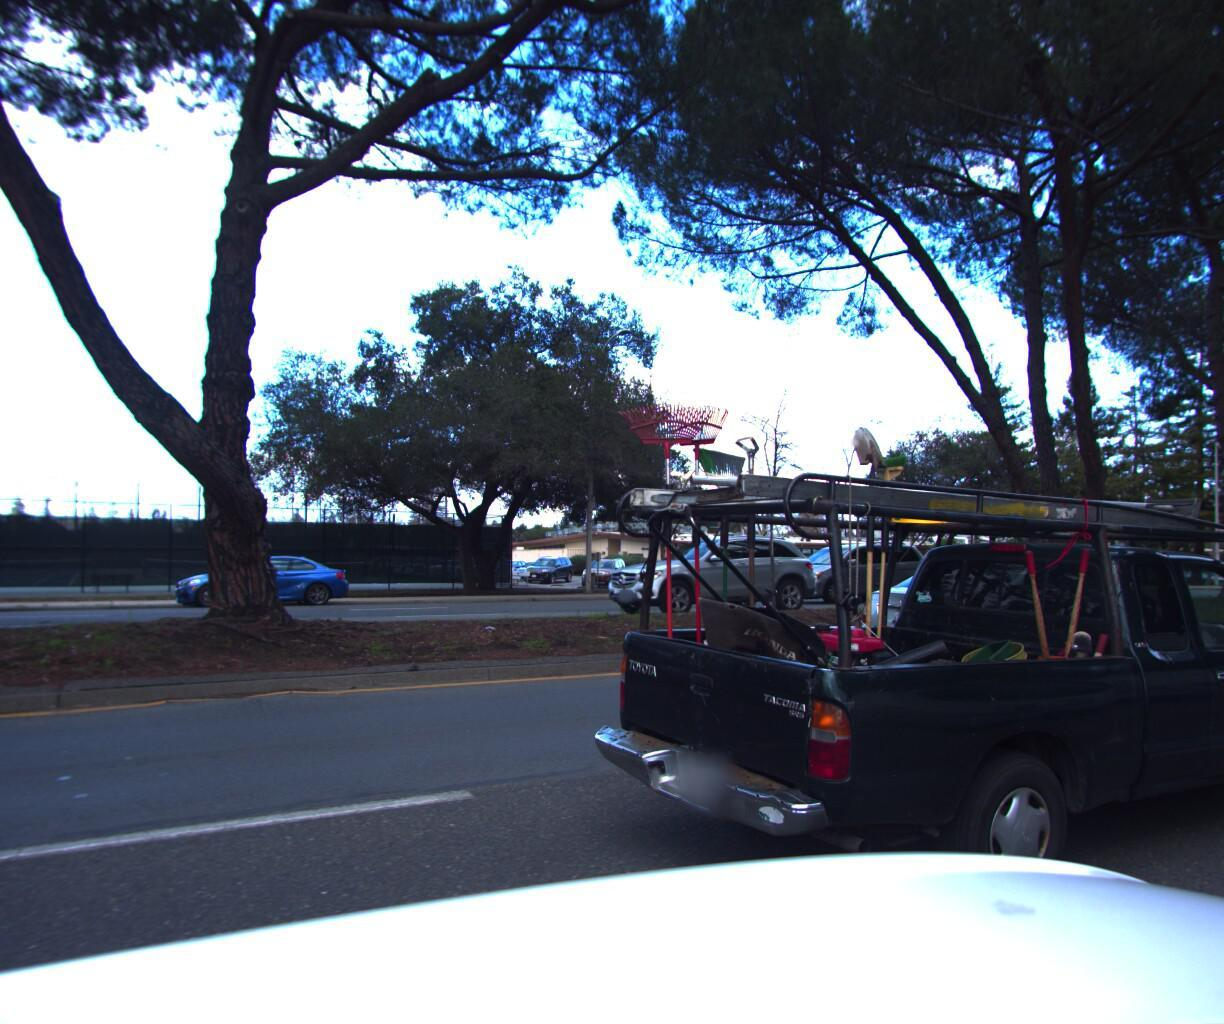car: (537, 327, 1224, 1024), (821, 541, 1207, 706), (586, 527, 825, 615), (168, 550, 358, 614), (764, 531, 938, 599), (1211, 556, 1224, 585)
